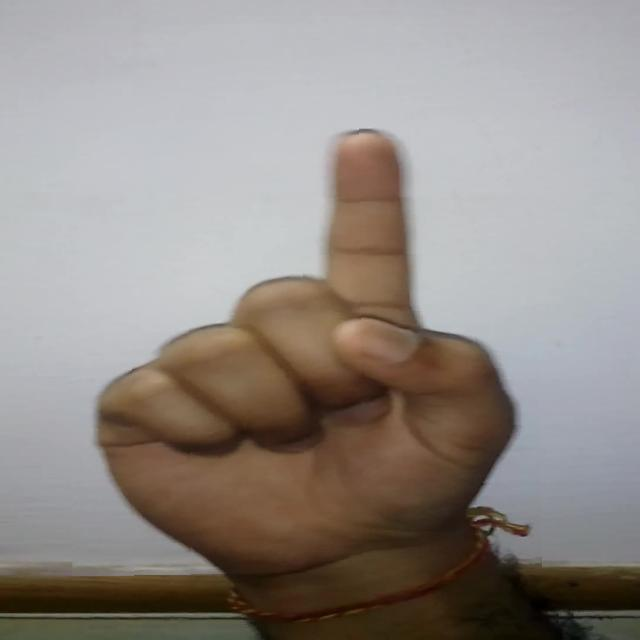I: (67, 107, 540, 574)
